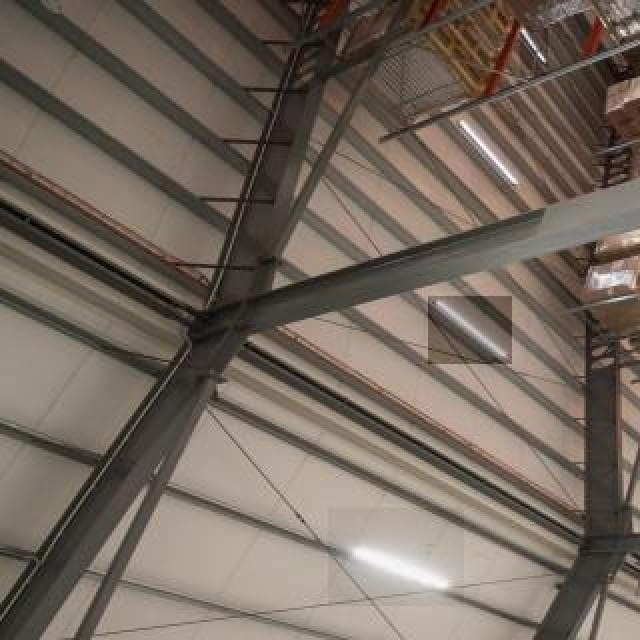fluorescent tube: (334, 538, 454, 598), (447, 114, 535, 194), (435, 294, 513, 362), (511, 3, 556, 74)
